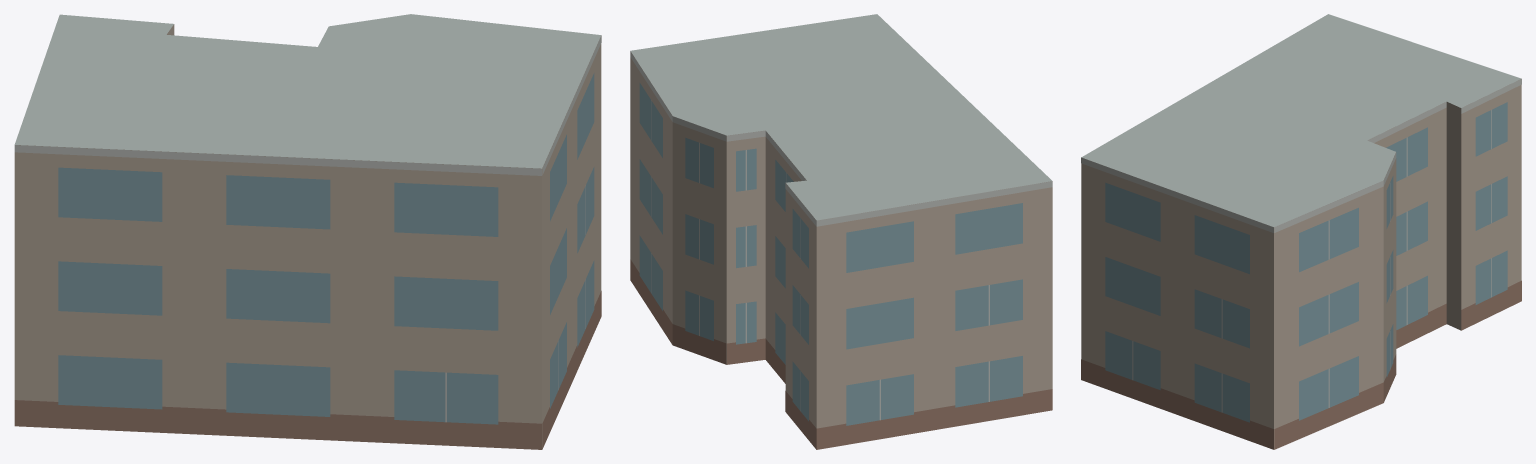
File: survey-upis-32921059.glb
The picture shows the model from 3 angles, left to right: view 1: azimuth 30°, elevation 25°; view 2: azimuth 150°, elevation 25°; view 3: azimuth 270°, elevation 25°; orthographic projection. The views are drawn at different scales.
Visible parts, largest first — view 1: survey-upis-32921059.tmp; view 2: survey-upis-32921059.tmp; view 3: survey-upis-32921059.tmp.
Part boxes in pixels (x1,y1,x2,y2): survey-upis-32921059.tmp: [14, 14, 601, 449]; survey-upis-32921059.tmp: [630, 14, 1052, 449]; survey-upis-32921059.tmp: [1081, 14, 1521, 449].
Bounding box in the file's own units: 18.82 × 9.15 × 16.42.
